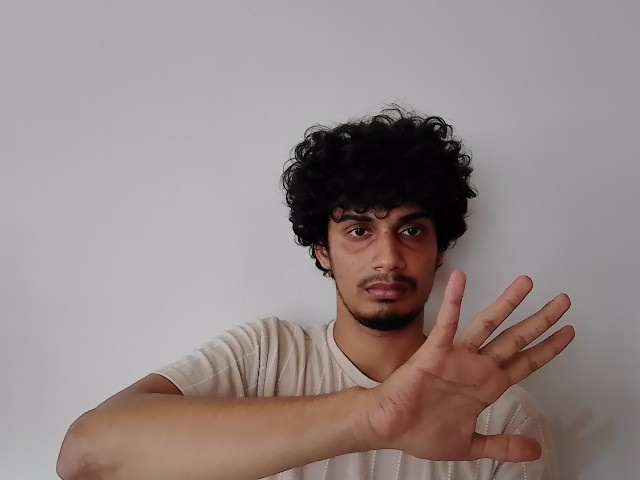goodbye: (381, 270, 582, 463)
